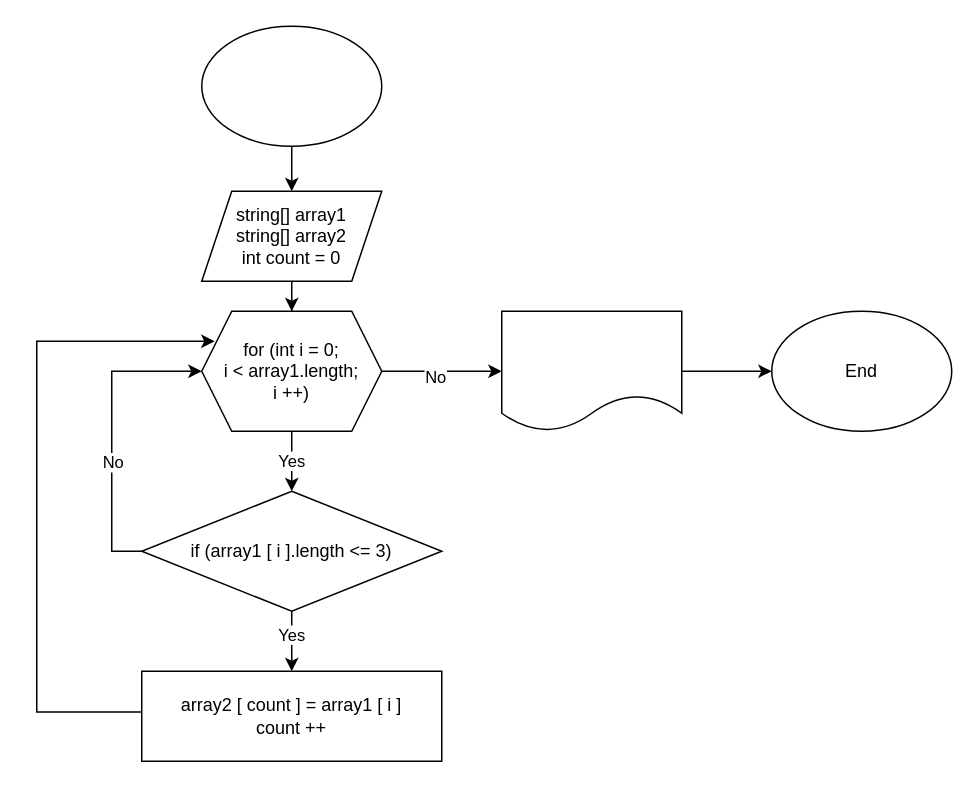
Image size: 978x788. Some labels were removed from this diagram. Each missing label, with the centre of its shape:
"Print array2" belongs at (x=591, y=370).
"Start" belongs at (x=291, y=85).
